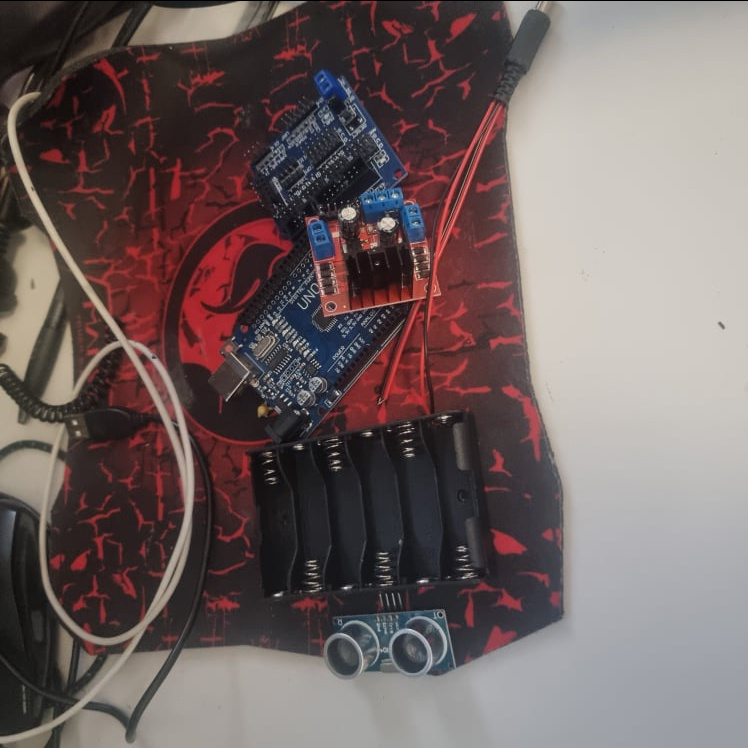5V EXPANSION: (233, 70, 408, 236)
BATTERY BOX: (247, 410, 493, 605)
MOTOR: (305, 185, 441, 309)
SENSOR: (323, 609, 461, 683)
UNO R3: (205, 265, 400, 444)
